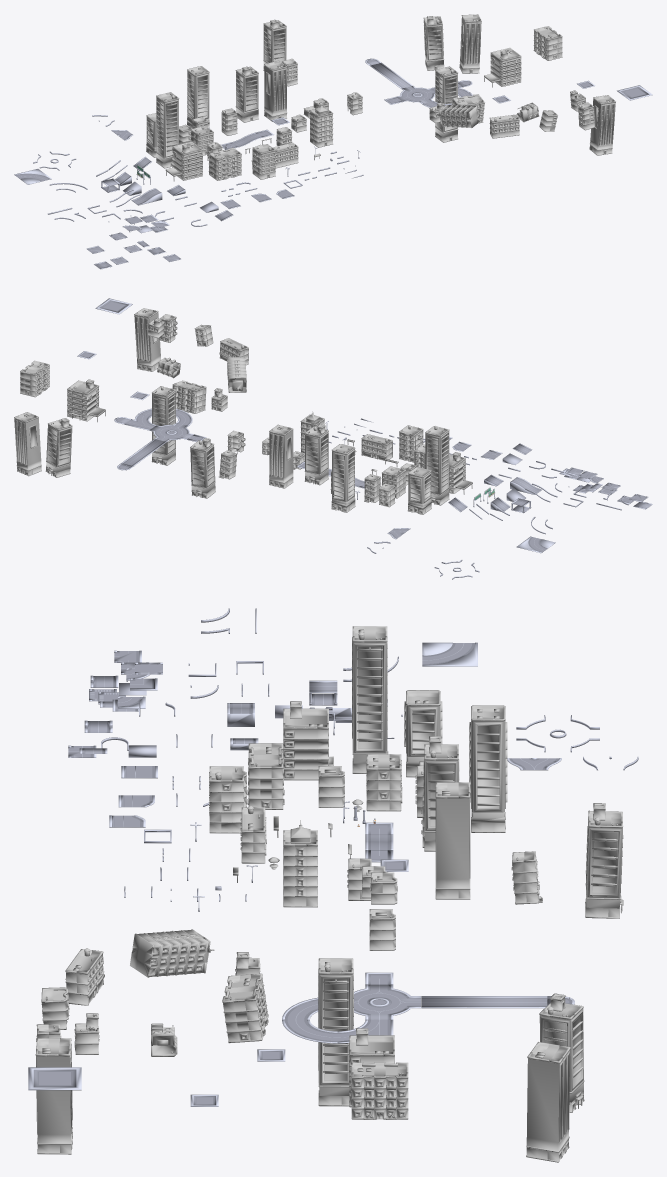
Rendered from mainStage.gltf.
3 views of the same model, one above another, from view 1: azimuth 30°, elevation 25°; view 2: azimuth 150°, elevation 25°; view 3: azimuth 270°, elevation 25° (orthographic). The views are drawn at different scales.
Parts seen in each view (by area): view 1: building-skyscraper-d, building-skyscraper-e, building-skyscraper-e.001, building-skyscraper-b, building-skyscraper-c, building-skyscraper-e.002, building-skyscraper-d.001, building-n.001, building-n, building-skyscraper-c.002, building-skyscraper-c.001, building-j (+13 smaller); view 2: building-skyscraper-d, building-skyscraper-b, building-skyscraper-e.002, building-skyscraper-e, building-skyscraper-c.002, building-skyscraper-d.001, building-skyscraper-c.001, building-skyscraper-c, building-skyscraper-e.001, building-n.001, building-skyscraper-a, building-j.002 (+11 smaller); view 3: building-skyscraper-d, building-skyscraper-e.002, building-skyscraper-b, building-skyscraper-d.001, building-skyscraper-e, building-skyscraper-c.001, building-skyscraper-e.001, building-j.002, building-n, building-m.001, building-skyscraper-c.002, building-m (+21 smaller).
Part boxes in pixels (bbox=[...]): building-skyscraper-d: bbox=[156, 92, 179, 168]; building-skyscraper-e: bbox=[264, 60, 287, 121]; building-skyscraper-e.001: bbox=[589, 95, 615, 155]; building-skyscraper-b: bbox=[187, 66, 209, 128]; building-skyscraper-c: bbox=[235, 66, 258, 122]; building-skyscraper-e.002: bbox=[459, 14, 481, 73]; building-skyscraper-d.001: bbox=[435, 66, 458, 142]; building-n.001: bbox=[484, 48, 521, 87]; building-n: bbox=[165, 141, 202, 181]; building-skyscraper-c.002: bbox=[423, 16, 444, 70]; building-skyscraper-c.001: bbox=[263, 19, 286, 70]; building-j: bbox=[208, 147, 241, 180]; building-skyscraper-d: bbox=[425, 426, 449, 505]; building-skyscraper-b: bbox=[331, 444, 355, 512]; building-skyscraper-e.002: bbox=[14, 412, 41, 476]; building-skyscraper-e: bbox=[269, 424, 293, 488]; building-skyscraper-c.002: bbox=[45, 418, 72, 477]; building-skyscraper-d.001: bbox=[151, 386, 175, 465]; building-skyscraper-c.001: bbox=[190, 438, 215, 498]; building-skyscraper-c: bbox=[304, 424, 328, 485]; building-skyscraper-e.001: bbox=[134, 308, 161, 371]; building-n.001: bbox=[67, 379, 105, 422]; building-skyscraper-a: bbox=[407, 467, 431, 514]; building-j.002: bbox=[20, 360, 49, 397]; building-skyscraper-d: bbox=[352, 626, 388, 773]; building-skyscraper-e.002: bbox=[526, 1042, 570, 1162]; building-skyscraper-b: bbox=[469, 705, 507, 832]; building-skyscraper-d.001: bbox=[318, 958, 353, 1106]; building-skyscraper-e: bbox=[435, 782, 470, 899]; building-skyscraper-c.001: bbox=[585, 803, 623, 918]; building-skyscraper-e.001: bbox=[35, 1038, 72, 1154]; building-j.002: bbox=[350, 1062, 408, 1119]; building-n: bbox=[283, 701, 333, 780]; building-m.001: bbox=[130, 929, 214, 977]; building-skyscraper-c.002: bbox=[539, 993, 584, 1112]; building-m: bbox=[283, 820, 317, 907].
Size of the model in its own units: 545 by 98.04 by 263.
